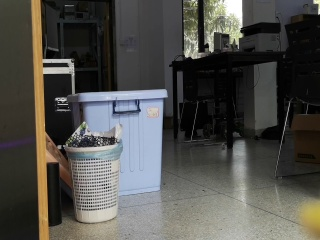room: (3, 4, 320, 231)
